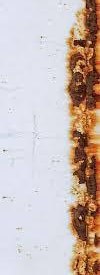Corrosion: (65, 1, 100, 275)
